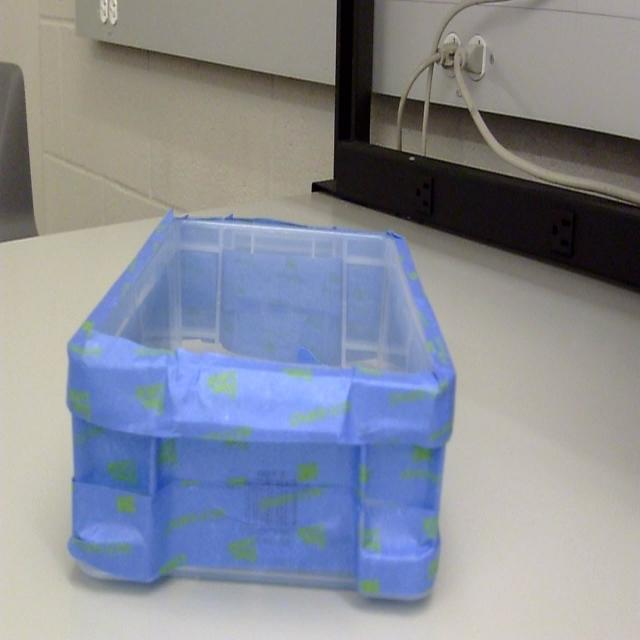bucket: (64, 213, 458, 607)
